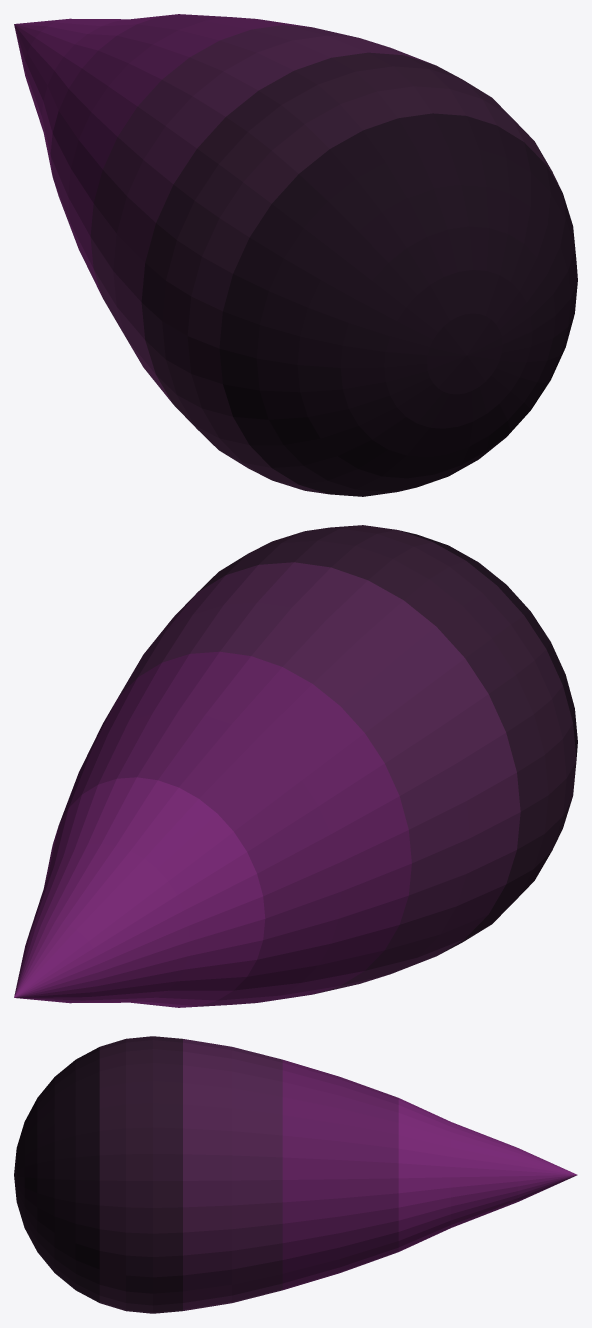
The model's file is inkmissile.fbx.
The picture shows the model from 3 angles, top to bottom: view 1: azimuth 30°, elevation 25°; view 2: azimuth 150°, elevation 25°; view 3: azimuth 270°, elevation 25°; orthographic projection. The views are drawn at different scales.
Visible parts, largest first — view 1: ink; view 2: ink; view 3: ink.
Part boxes in pixels (x1=…): ink: x1=14, y1=14, x2=577, y2=496; ink: x1=14, y1=525, x2=577, y2=1007; ink: x1=14, y1=1036, x2=577, y2=1313.
Size of the model in its own units: 200 by 200 by 406.
